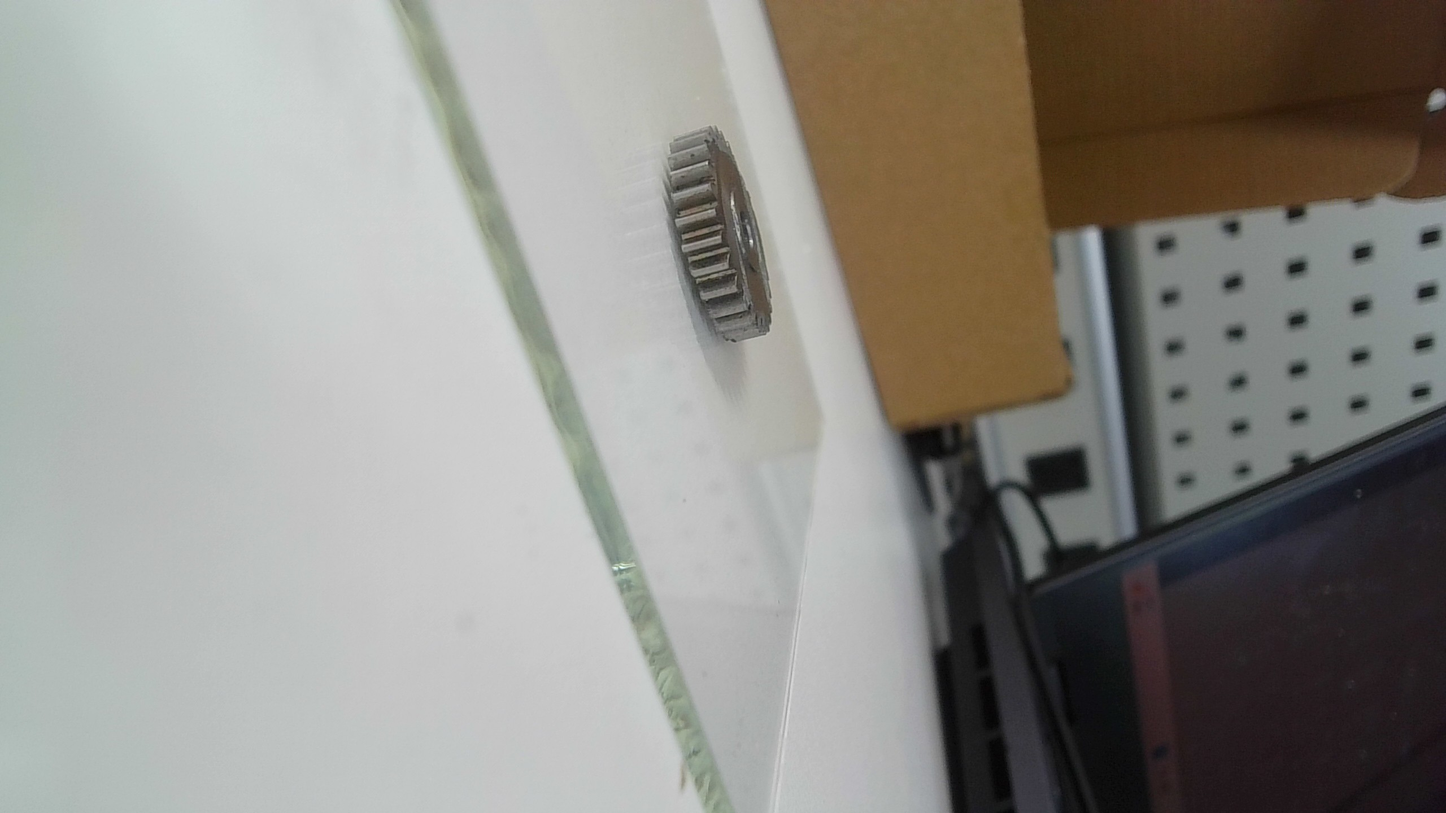gear: (665, 123, 779, 344)
